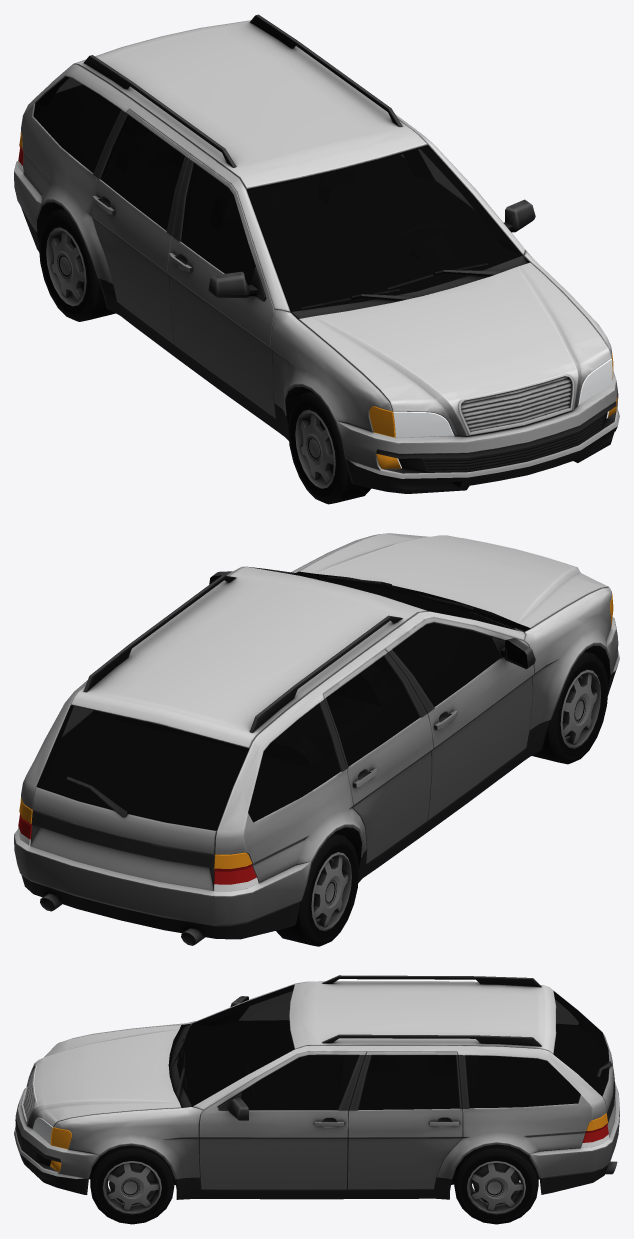
File: car_traffic_3.glb
3 views of the same model, one above another, from view 1: azimuth 30°, elevation 25°; view 2: azimuth 150°, elevation 25°; view 3: azimuth 270°, elevation 25° (orthographic). The views are drawn at different scales.
Parts seen in each view (by area): view 1: Body, Glass, WheelFR, WheelRR, Headlights, IndicatorFR; view 2: Body, Glass, WheelRR, WheelFR, Brakelights; view 3: Body, Glass, WheelRL, WheelFL, IndicatorFL.
Boxes of the visible parts, x1,y1,x2,y2 form: Body: (14,14,619,493); Glass: (33,76,522,311); WheelFR: (288,391,371,504); WheelRR: (39,208,115,321); Headlights: (393,358,612,468); IndicatorFR: (369,406,400,468); Body: (14,533,619,945); Glass: (36,566,522,830); WheelRR: (276,833,359,946); WheelFR: (532,651,608,764); Brakelights: (18,812,256,884); Body: (14,975,619,1199); Glass: (177,984,609,1110); WheelRL: (454,1144,538,1224); WheelFL: (90,1145,174,1224); IndicatorFL: (50,1127,71,1171).
Bounding box in the file's own units: 2.09 × 1.48 × 4.69.
7 materials, 2 textured.
